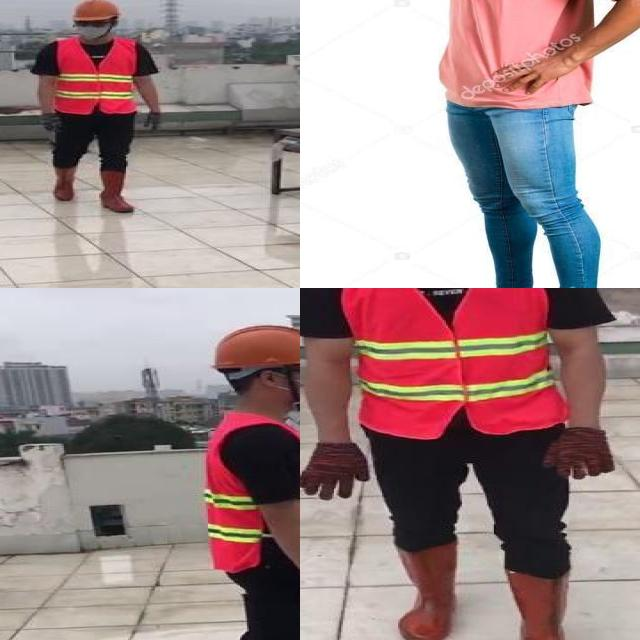boots: (392, 542, 462, 640), (508, 566, 590, 640), (99, 170, 133, 215), (53, 165, 76, 202)
face_mask: (72, 18, 111, 40), (279, 366, 300, 405)
glasses: (71, 17, 110, 29)
hand_glove: (300, 444, 371, 500), (544, 428, 615, 481), (42, 113, 62, 133), (146, 110, 163, 129)
hand_noglove: (491, 32, 604, 100)
head_helmet: (300, 288, 628, 640), (209, 323, 300, 371), (68, 0, 123, 22)
person: (420, 0, 640, 288), (183, 317, 300, 640), (32, 0, 167, 219)
vest: (328, 288, 561, 438), (197, 404, 300, 572), (56, 35, 138, 113)
